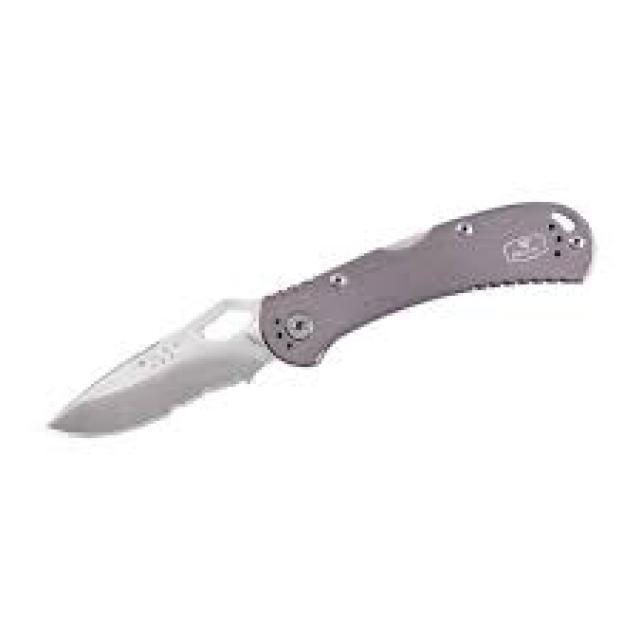knife: (48, 192, 607, 446)
